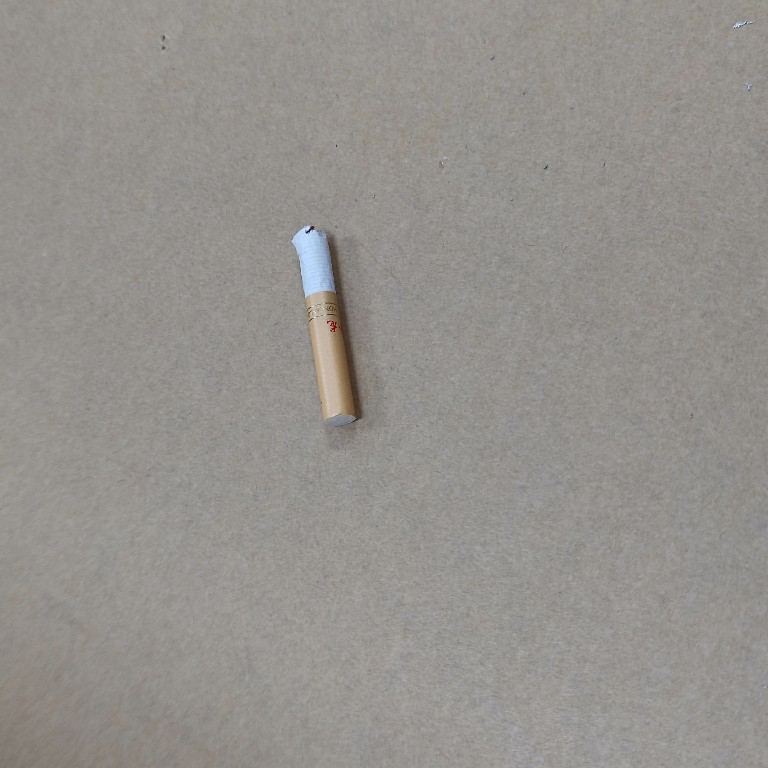cigarette: (284, 221, 377, 431)
